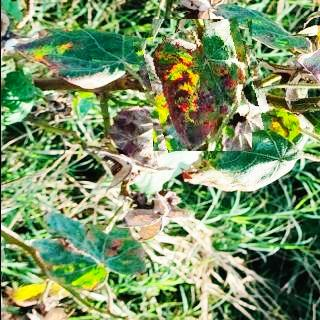blight: (138, 21, 266, 149)
